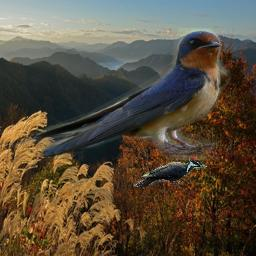Swallow: (3, 28, 232, 160)
Woodpecker: (133, 156, 207, 187)
